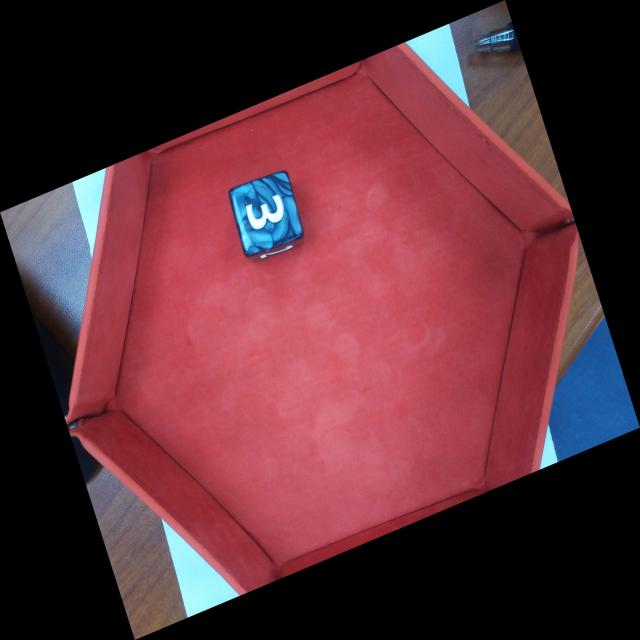dice: (230, 168, 304, 255)
